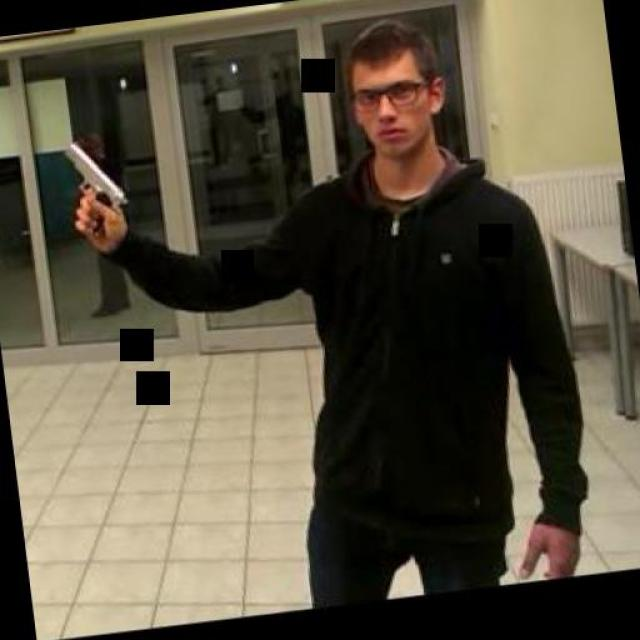gun: (55, 132, 133, 242)
